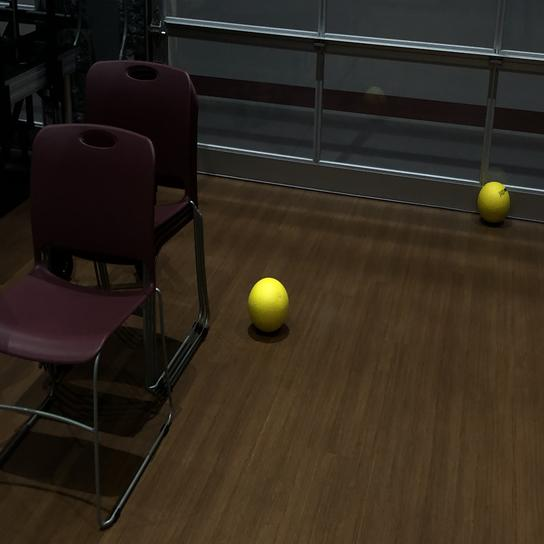ball: (245, 275, 291, 335), (474, 177, 512, 227)
